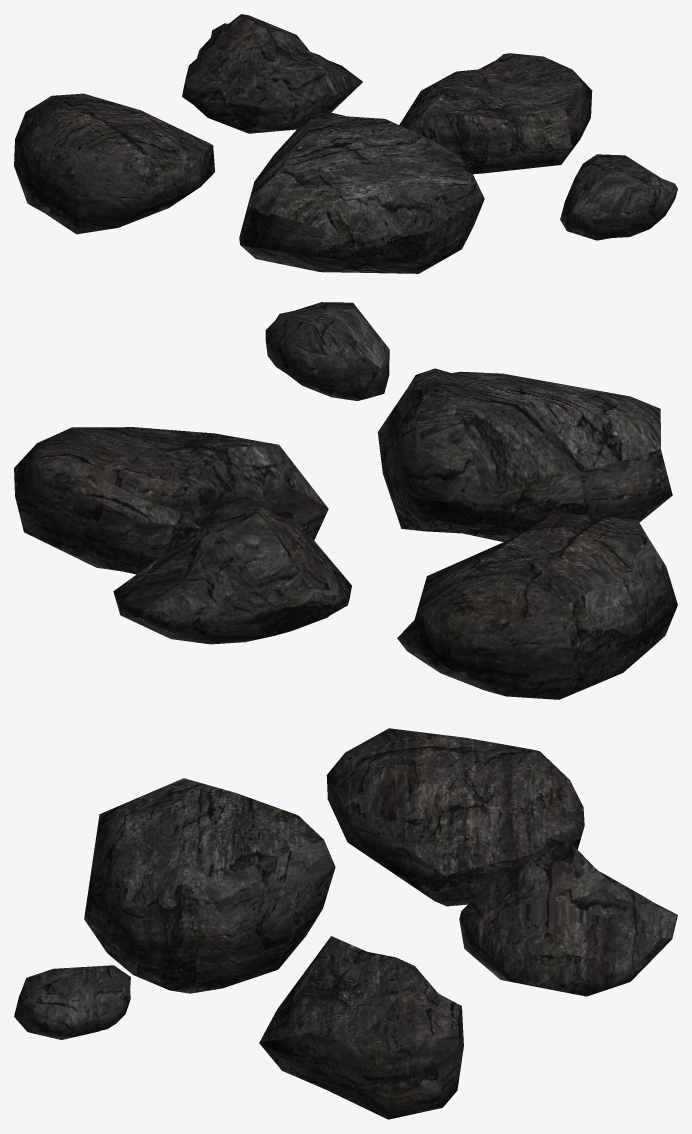
The model's file is Rocks 1.glb.
3 renders of one model, top to bottom at view 1: azimuth 30°, elevation 25°; view 2: azimuth 150°, elevation 25°; view 3: azimuth 270°, elevation 25°, orthographic. The views are drawn at different scales.
Parts seen in each view (by area): view 1: rocks_1_low; view 2: rocks_1_low; view 3: rocks_1_low.
Part boxes in pixels (bbox=[...]): rocks_1_low: bbox=[14, 14, 677, 273]; rocks_1_low: bbox=[14, 302, 677, 699]; rocks_1_low: bbox=[14, 728, 677, 1119].
Size of the model in its own units: 0.457 by 0.1141 by 0.4323.
Materials: 1 (1 with a texture image).
